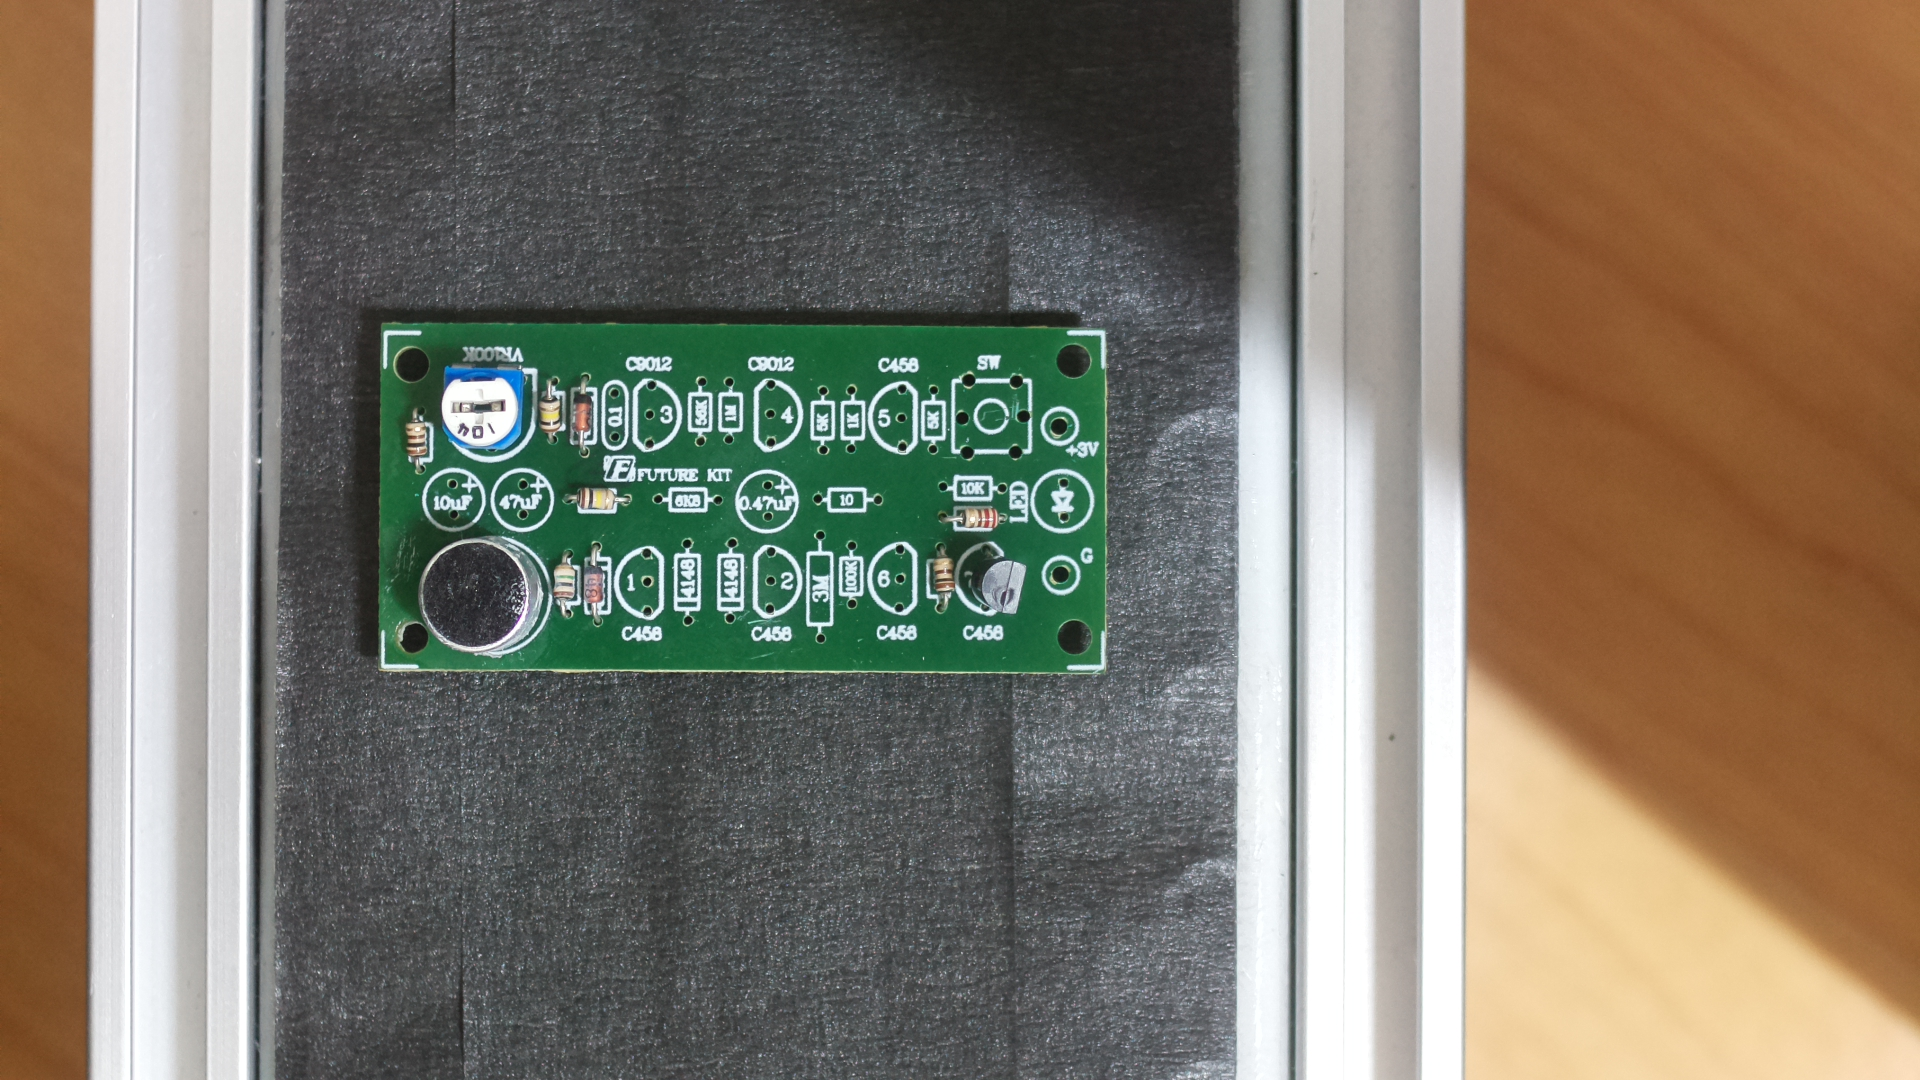A_Missing_part: (372, 313, 1125, 690)
